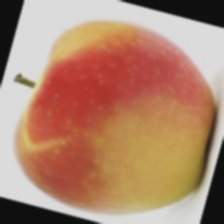apple: (62, 38, 201, 175)
